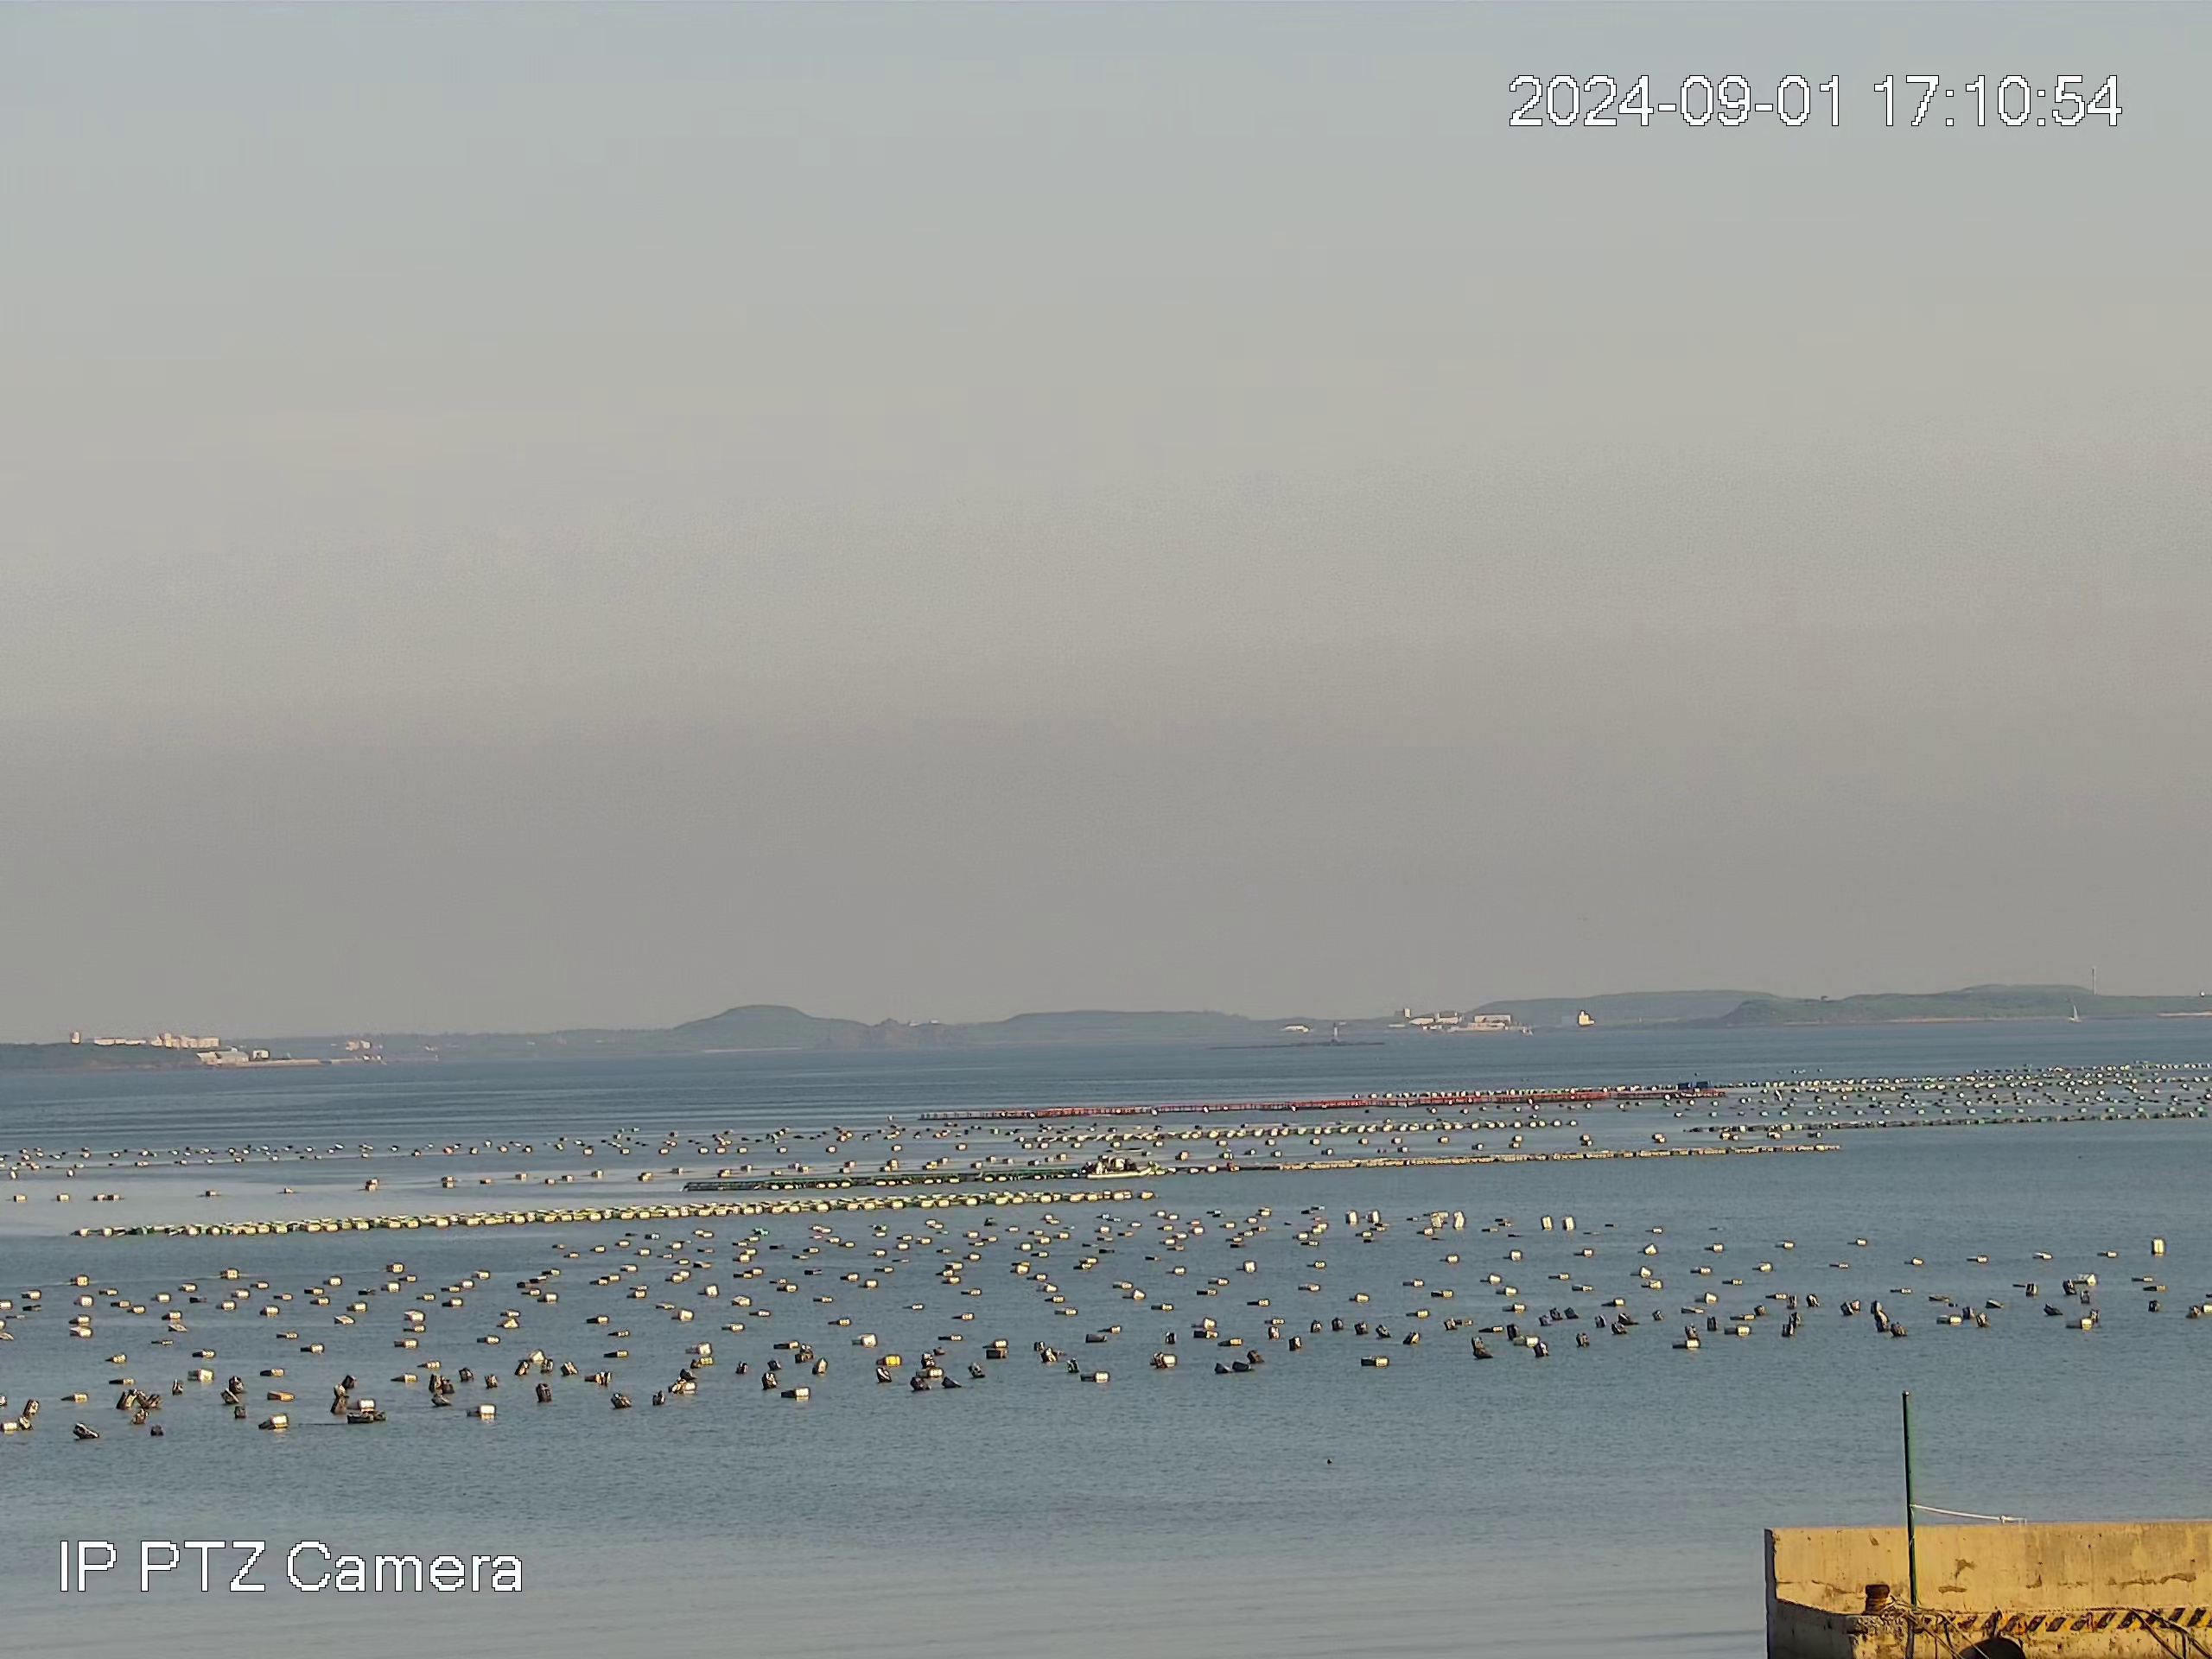boat: (1089, 1152, 1150, 1180)
